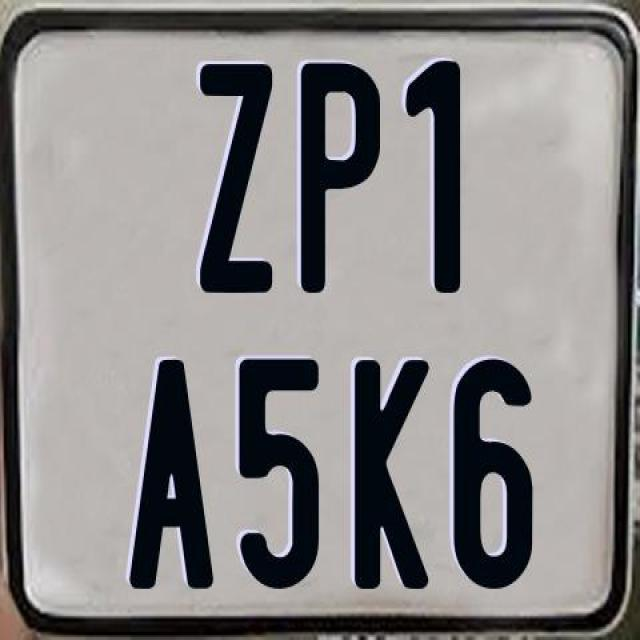1: (404, 61, 466, 296)
5: (236, 358, 316, 597)
6: (452, 358, 539, 598)
A: (130, 355, 213, 587)
K: (354, 358, 430, 589)
P: (300, 61, 387, 292)
Z: (200, 59, 280, 290)
